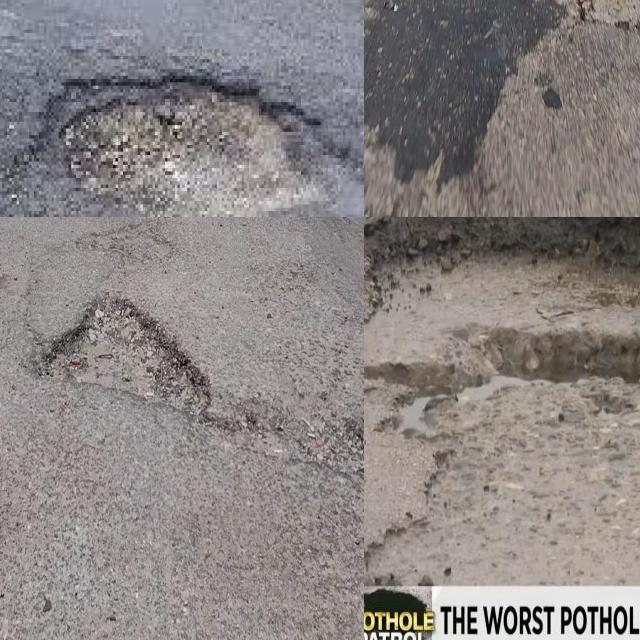Pothole: (364, 217, 640, 566), (364, 381, 640, 585), (27, 63, 345, 217), (64, 90, 314, 217), (44, 289, 214, 429), (364, 217, 640, 270), (450, 327, 640, 383), (364, 366, 476, 393)
